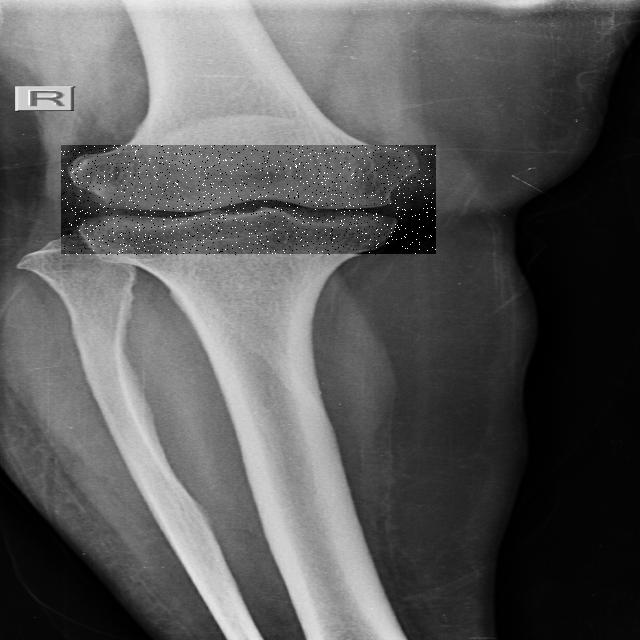normal: (61, 146, 436, 256)
